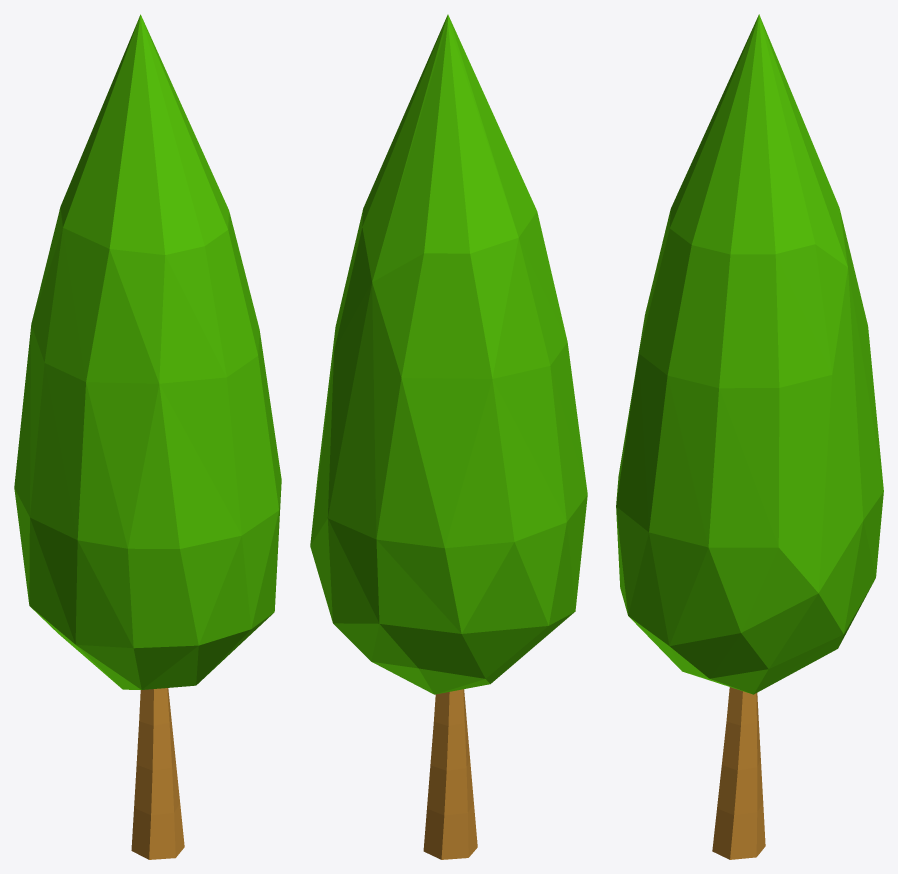
File: Tree3.fbx
3 views of the same model, side by side, from view 1: azimuth 30°, elevation 25°; view 2: azimuth 150°, elevation 25°; view 3: azimuth 270°, elevation 25° (orthographic).
Parts seen in each view (by area): view 1: Tree_1_1; view 2: Tree_1_1; view 3: Tree_1_1.
Part boxes in pixels (bbox=[...]): Tree_1_1: bbox=[14, 14, 281, 859]; Tree_1_1: bbox=[310, 14, 587, 859]; Tree_1_1: bbox=[616, 14, 883, 859].
Bounding box in the file's own units: 8.81 × 30.13 × 8.79.
